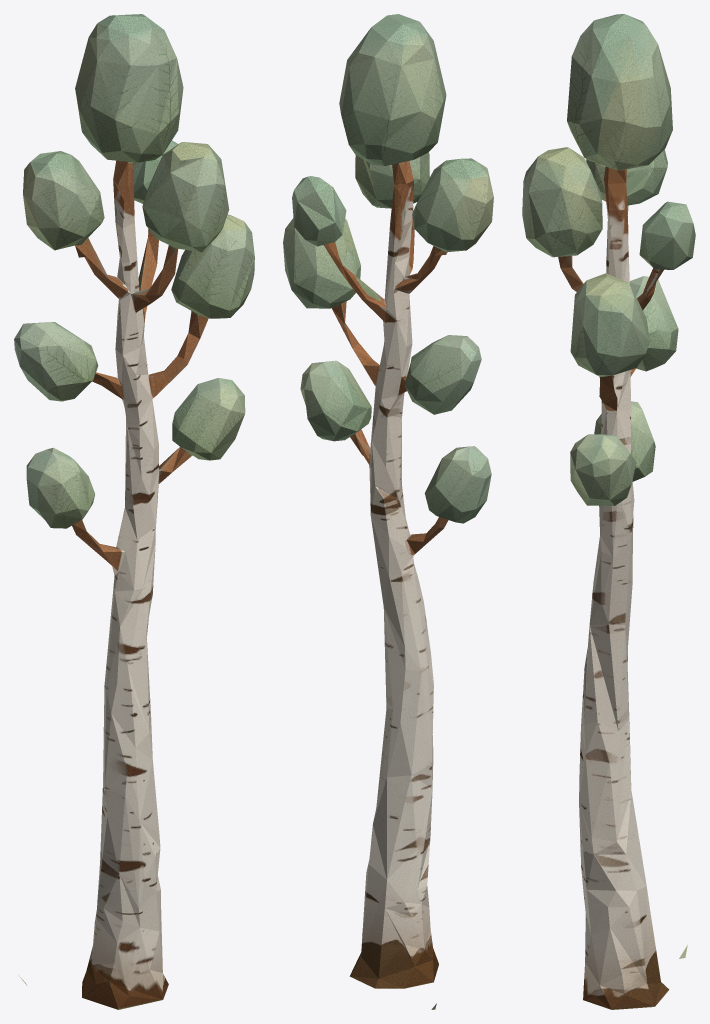
File: birch.glb
3 views of the same model, side by side, from view 1: azimuth 30°, elevation 25°; view 2: azimuth 150°, elevation 25°; view 3: azimuth 270°, elevation 25° (orthographic). The views are drawn at different scales.
Parts seen in each view (by area): view 1: GLTF; view 2: GLTF; view 3: GLTF.
Boxes of the visible parts, <box> form: GLTF: <box>14,14,254,1009</box>; GLTF: <box>283,14,493,1009</box>; GLTF: <box>522,14,695,1009</box>.
Size of the model in its own units: 0.433 by 1.89 by 0.3049.
Materials: 1 (1 with a texture image).
